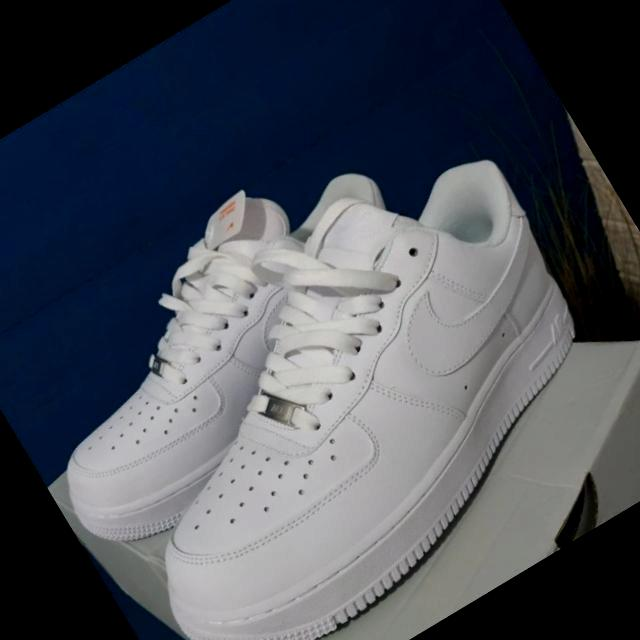nike_original_airforce: (32, 119, 640, 640), (0, 126, 480, 569)
